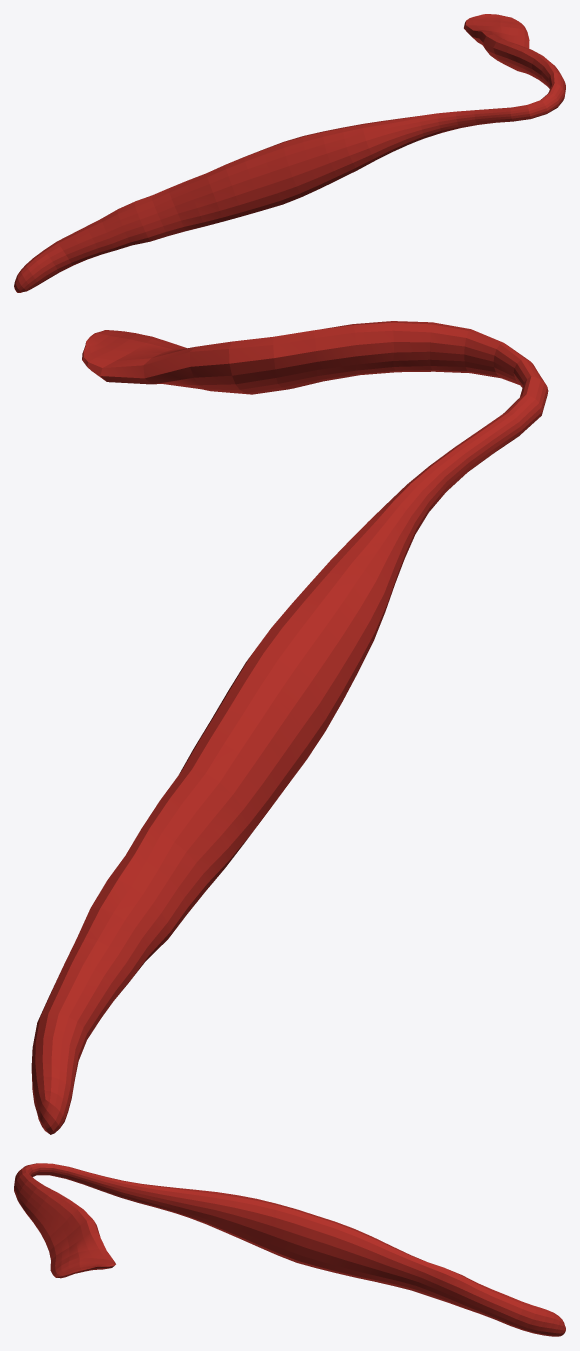
File: frau2-405.glb
3 views of the same model, one above another, from view 1: azimuth 90°, elevation 25°; view 2: azimuth 150°, elevation 25°; view 3: azimuth 270°, elevation 25° (orthographic). The views are drawn at different scales.
Parts seen in each view (by area): view 1: VH_F_superior_oblique_extraocular_muscle_L; view 2: VH_F_superior_oblique_extraocular_muscle_L; view 3: VH_F_superior_oblique_extraocular_muscle_L.
Part boxes in pixels (<box>): VH_F_superior_oblique_extraocular_muscle_L: <box>14,14,565,292</box>; VH_F_superior_oblique_extraocular_muscle_L: <box>31,321,548,1134</box>; VH_F_superior_oblique_extraocular_muscle_L: <box>14,1163,565,1336</box>.
Bounding box in the file's own units: 0.0218 × 0.018 × 0.0464.
